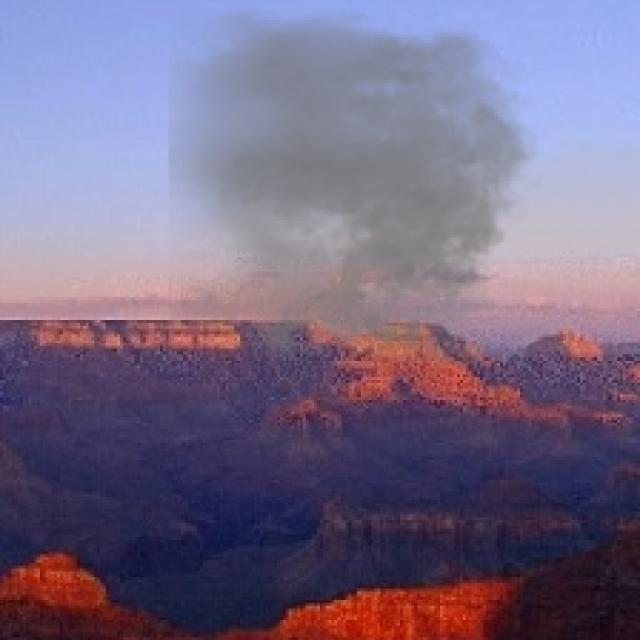smoke: (168, 9, 552, 368)
